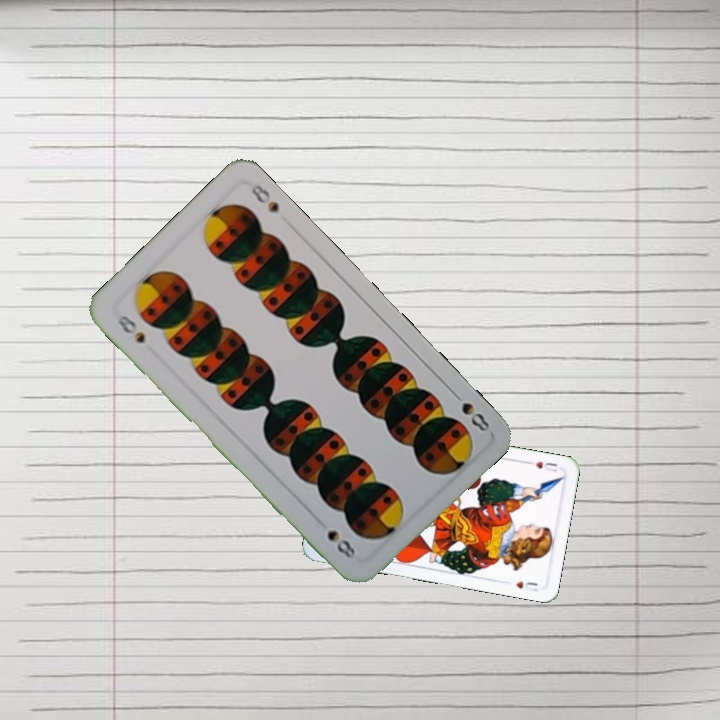HU: (523, 457, 560, 474)
S8: (447, 386, 492, 435), (112, 311, 148, 347)
